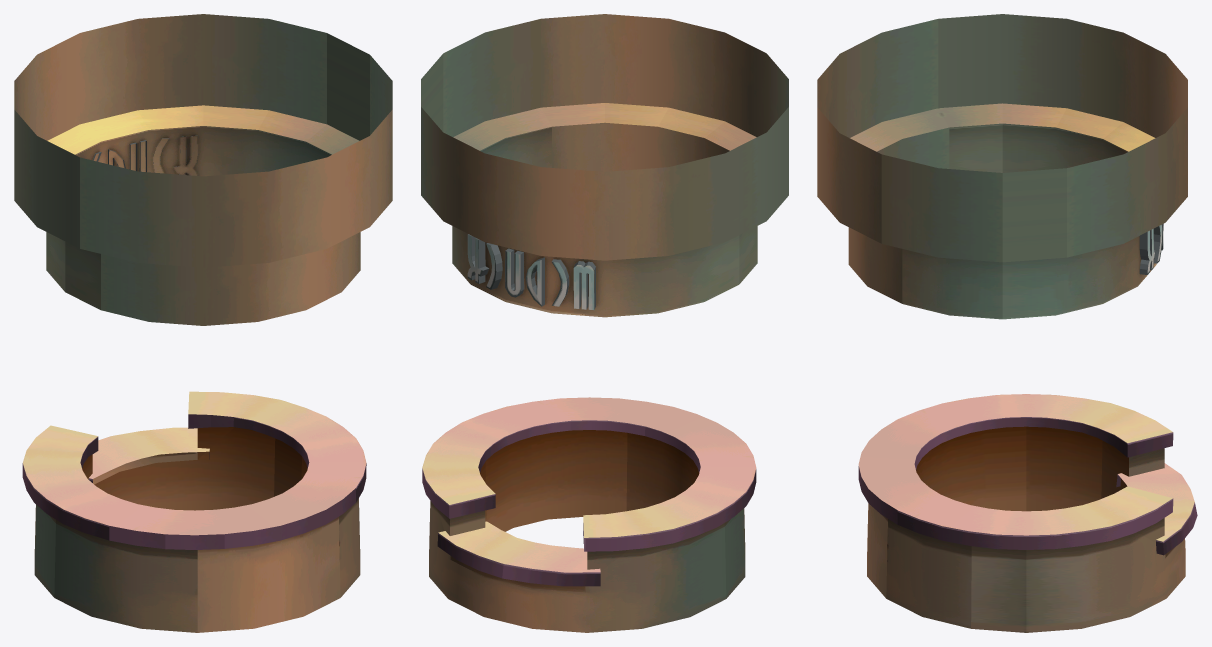
The model's file is reception_mcduck.FBX.
3 views of the same model, side by side, from view 1: azimuth 30°, elevation 25°; view 2: azimuth 150°, elevation 25°; view 3: azimuth 270°, elevation 25° (orthographic). The views are drawn at different scales.
Parts seen in each view (by area): view 1: Mesh_0019; view 2: Mesh_0019; view 3: Mesh_0019.
Boxes of the visible parts, left/top/right/bottom form: Mesh_0019: left=14, top=14, right=392, bottom=632; Mesh_0019: left=421, top=14, right=788, bottom=632; Mesh_0019: left=817, top=14, right=1197, bottom=632.
Size of the model in its own units: 867 by 1191 by 876.
